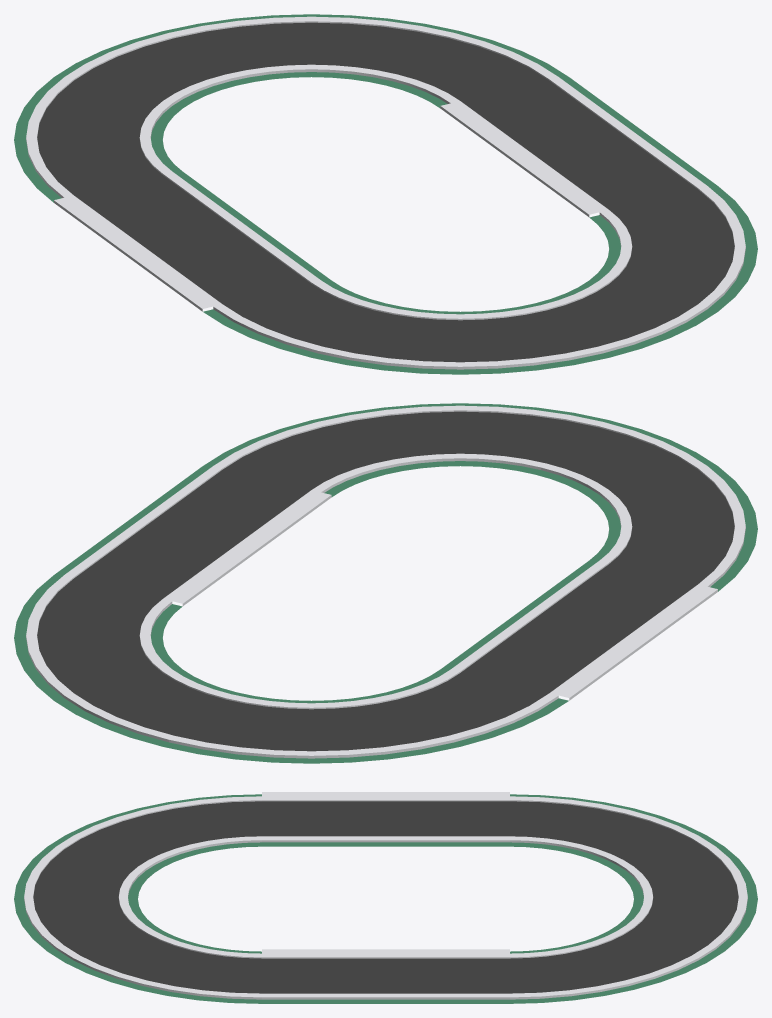
The model's file is track.obj.
3 views of the same model, one above another, from view 1: azimuth 30°, elevation 25°; view 2: azimuth 150°, elevation 25°; view 3: azimuth 270°, elevation 25° (orthographic). The views are drawn at different scales.
Visible parts, largest first — view 1: roadCornerLarge.001, roadCornerLarge, roadCornerLarge.002, roadCornerLarge.003, roadPitStraight, roadPitStraight.003, roadPitStraight.002, roadPitStraight.001; view 2: roadCornerLarge.002, roadCornerLarge.003, roadCornerLarge.001, roadCornerLarge, roadPitStraight.001, roadPitStraight.003, roadPitStraight.002, roadPitStraight; view 3: roadCornerLarge.003, roadCornerLarge, roadCornerLarge.002, roadCornerLarge.001, roadPitStraight.003, roadPitStraight.002, roadPitStraight.001, roadPitStraight.
Part boxes in pixels (<box>): roadCornerLarge.001: <box>203,280,608,374</box>; roadCornerLarge: <box>535,186,757,357</box>; roadCornerLarge.002: <box>14,31,236,202</box>; roadCornerLarge.003: <box>163,14,568,107</box>; roadPitStraight: <box>515,131,717,216</box>; roadPitStraight.003: <box>128,226,330,311</box>; roadPitStraight.002: <box>54,171,256,256</box>; roadPitStraight.001: <box>440,77,643,162</box>; roadCornerLarge.002: <box>163,669,568,763</box>; roadCornerLarge.003: <box>14,575,236,746</box>; roadCornerLarge.001: <box>535,420,757,591</box>; roadCornerLarge: <box>203,403,608,496</box>; roadPitStraight.001: <box>54,520,256,605</box>; roadPitStraight.003: <box>515,560,717,645</box>; roadPitStraight.002: <box>441,615,643,700</box>; roadPitStraight: <box>128,466,331,551</box>; roadCornerLarge.003: <box>510,897,757,1003</box>; roadCornerLarge: <box>14,897,261,1003</box>; roadCornerLarge.002: <box>510,794,757,898</box>; roadCornerLarge.001: <box>14,794,261,898</box>; roadPitStraight.003: <box>262,792,385,846</box>; roadPitStraight.002: <box>386,792,509,846</box>; roadPitStraight.001: <box>386,949,509,1003</box>; roadPitStraight: <box>262,949,385,1003</box>.
Size of the model in its own units: 4 by 0.02 by 6.
